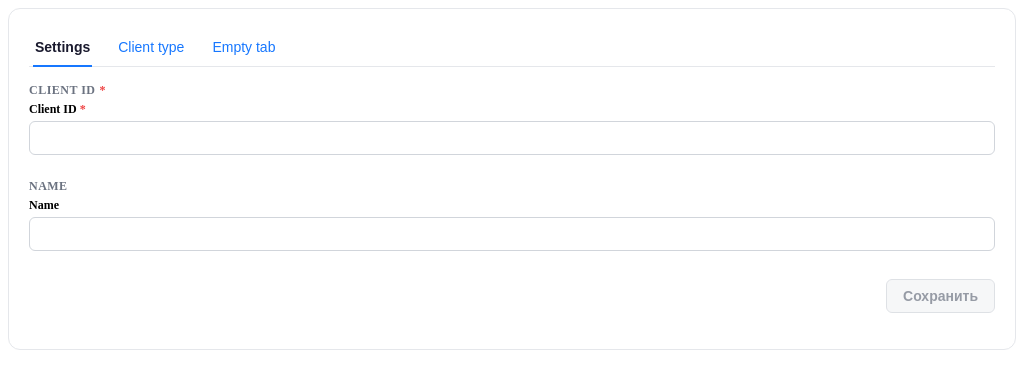
TabbedForm — save (dirty tracking + exec) › dirty state локален для текущей tab'ы — переключение не очищает values
The image size is (1024, 367).
In the field labelled "Client ID *": (512, 138) [29, 121, 995, 155], type "new-id"
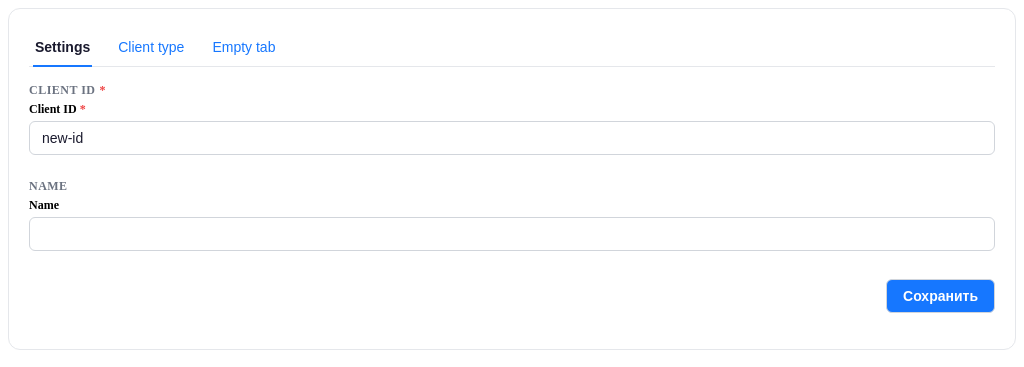
Click the tab "Client type": (151, 48) [116, 29, 186, 67]
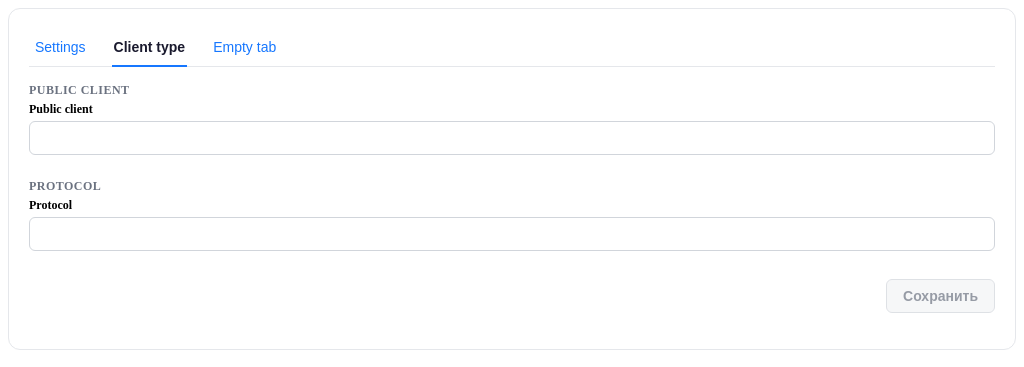
Click the tab "Settings": (60, 48) [33, 29, 88, 67]
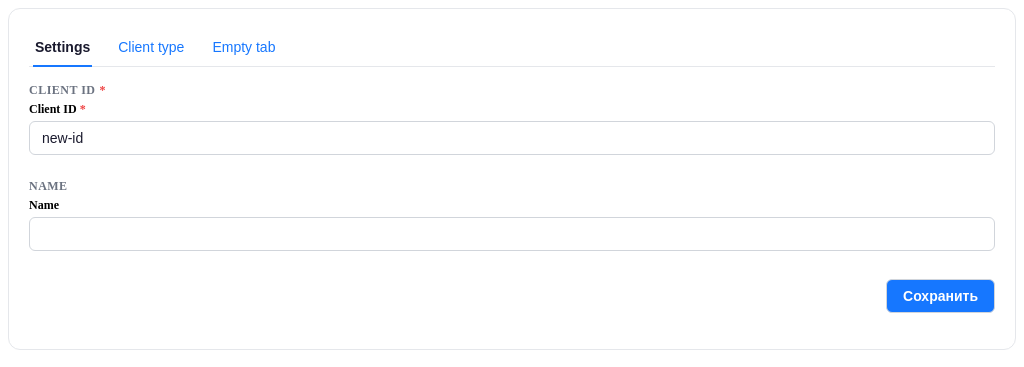
expect the field labelled "Client ID *" holds "new-id": met, box [29, 121, 995, 155]
